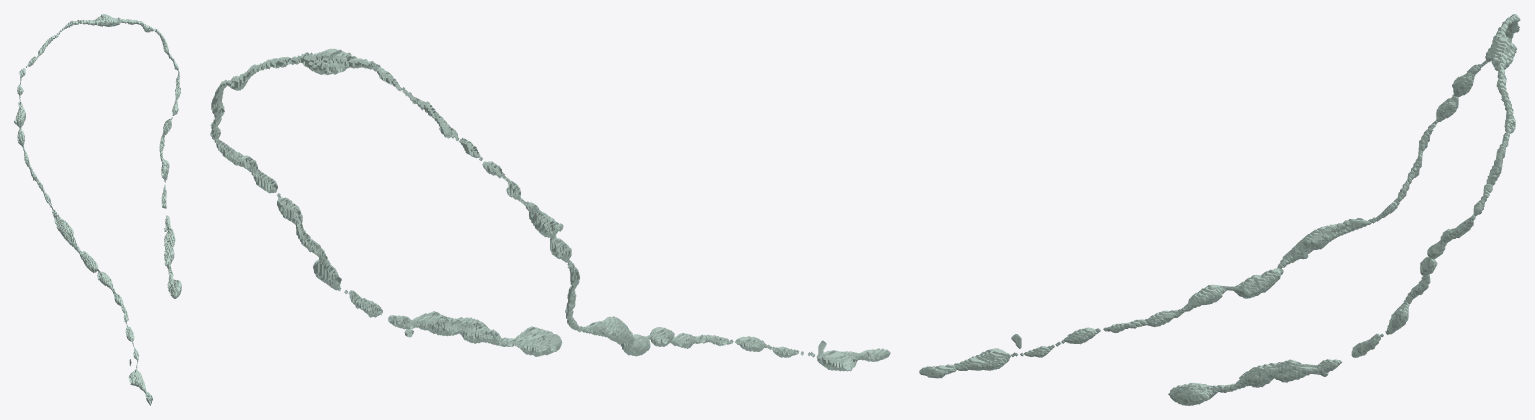
File: SVV_AVFR.gltf
3 renders of one model, left to right at view 1: azimuth 30°, elevation 25°; view 2: azimuth 150°, elevation 25°; view 3: azimuth 270°, elevation 25°, orthographic. The views are drawn at different scales.
Visible parts, largest first — view 1: AVFR; view 2: AVFR; view 3: AVFR.
Boxes of the visible parts, x1,y1,x2,y2 form: AVFR: [14, 14, 181, 405]; AVFR: [210, 48, 890, 371]; AVFR: [919, 14, 1520, 405].
Bounding box in the file's own units: 122181 × 154324 × 192388.
